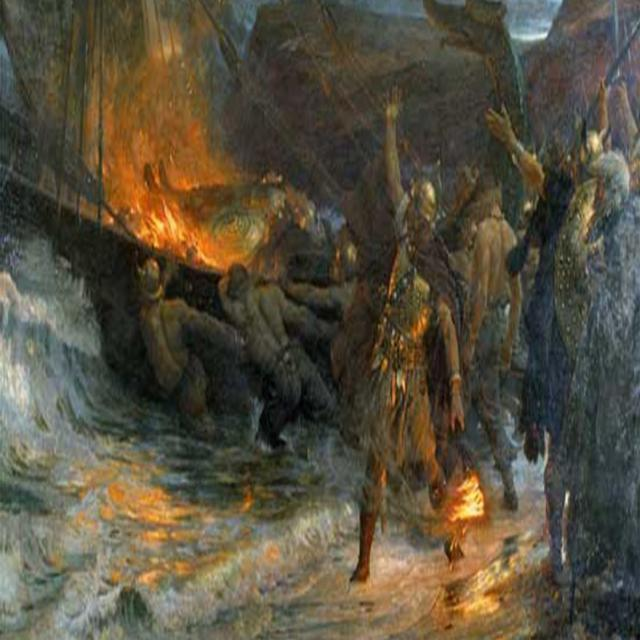Fire: (87, 67, 276, 278), (442, 466, 487, 523)
